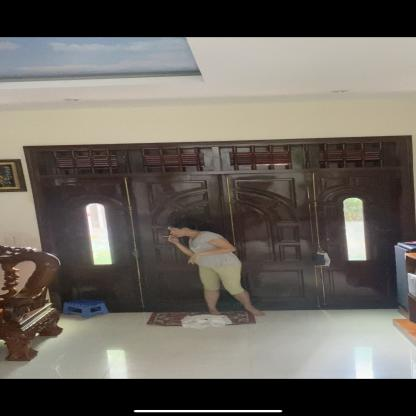cigarette: (161, 235, 171, 238)
person: (167, 227, 266, 325)
